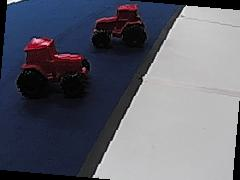Tracktor: (14, 34, 93, 99), (90, 2, 147, 48)
